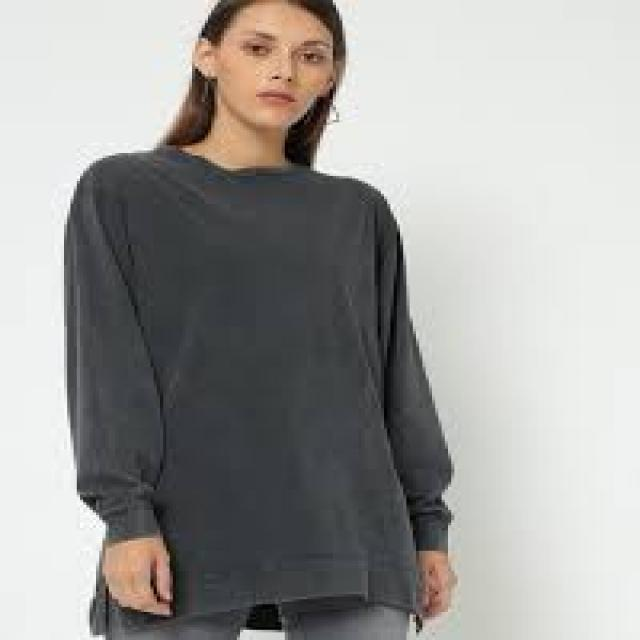plain: (53, 136, 456, 613)
